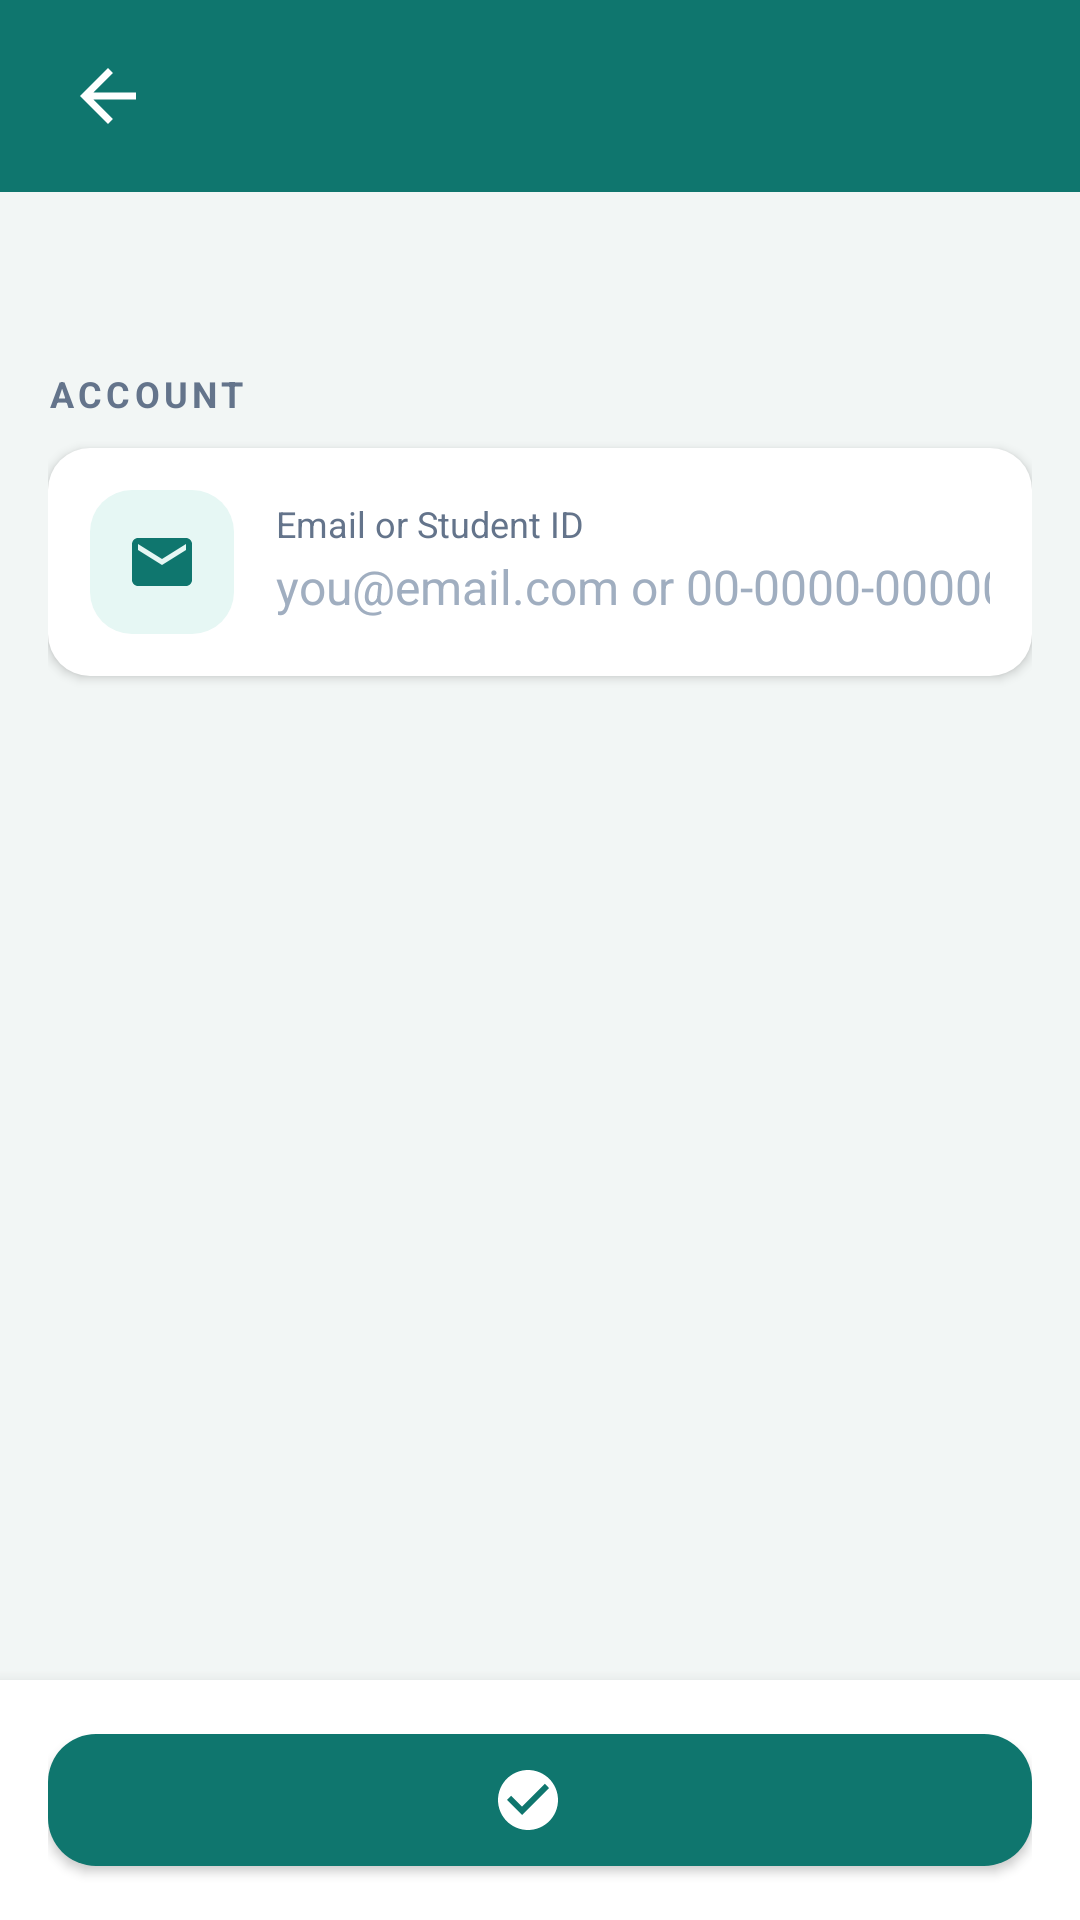

Named icons in this screenshot (1080×1920) and their bounding boxes, (x1, y1, x2, y2):
Back: (80, 68, 136, 124)
